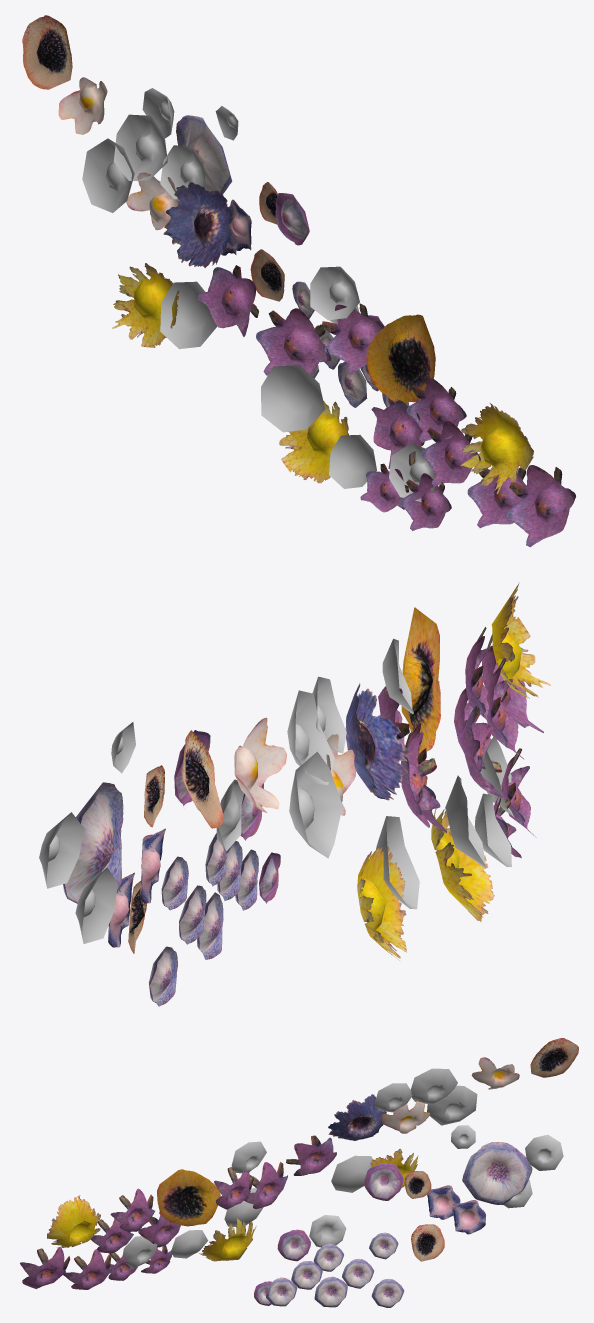
File: Right_Flower5.fbx
3 views of the same model, one above another, from view 1: azimuth 30°, elevation 25°; view 2: azimuth 150°, elevation 25°; view 3: azimuth 270°, elevation 25° (orthographic). The views are drawn at different scales.
Parts seen in each view (by area): view 1: Circle.1412, Circle.1410, Circle.1383, Circle.1384, Circle.1406, Circle.1381, Circle.1390, Circle.1382, Circle.1411, Circle.1403, Circle.1413, Circle.1395 (+20 smaller); view 2: Circle.1410, Circle.1597, Circle.1412, Circle.1400, Circle.1381, Circle.1382, Circle.1399, Circle.1383, Circle.1411, Circle.1413, Circle.1601, Circle.1602 (+31 smaller); view 3: Circle.1597, Circle.1412, Circle.1383, Circle.1410, Circle.1411, Circle.1382, Circle.1400, Circle.1413, Circle.1395, Circle.1384, Circle.1390, Circle.1599 (+32 smaller).
Boxes of the visible parts, box(x1,y1,x2,y2) form: Circle.1412: box(366, 314, 435, 403); Circle.1410: box(163, 182, 233, 267); Circle.1383: box(460, 403, 533, 493); Circle.1384: box(506, 465, 575, 547); Circle.1406: box(261, 365, 324, 432); Circle.1381: box(112, 263, 179, 347); Circle.1390: box(256, 308, 331, 375); Circle.1382: box(279, 400, 348, 483); Circle.1411: box(22, 15, 72, 89); Circle.1403: box(160, 281, 216, 349); Circle.1413: box(113, 114, 167, 180); Circle.1395: box(197, 265, 258, 336); Circle.1410: box(345, 683, 410, 800); Circle.1597: box(63, 782, 123, 903); Circle.1412: box(401, 607, 440, 754); Circle.1400: box(289, 751, 342, 858); Circle.1381: box(357, 845, 407, 960); Circle.1382: box(431, 809, 494, 921); Circle.1399: box(234, 717, 286, 812); Circle.1383: box(491, 582, 550, 698); Circle.1411: box(181, 730, 223, 828); Circle.1413: box(287, 690, 334, 785); Circle.1601: box(39, 812, 84, 888); Circle.1602: box(75, 867, 117, 943); Circle.1597: box(462, 1142, 532, 1204); Circle.1412: box(157, 1169, 220, 1226); Circle.1383: box(47, 1195, 100, 1247); Circle.1410: box(328, 1094, 386, 1140); Circle.1411: box(530, 1038, 578, 1077); Circle.1382: box(199, 1217, 256, 1261); Circle.1400: box(427, 1085, 477, 1125); Circle.1413: box(410, 1068, 457, 1104); Circle.1395: box(286, 1135, 336, 1175); Circle.1384: box(20, 1247, 70, 1288); Circle.1390: box(243, 1162, 287, 1208); Circle.1599: box(364, 1163, 403, 1200).
Size of the model in its own units: 41.73 by 61.03 by 140.
